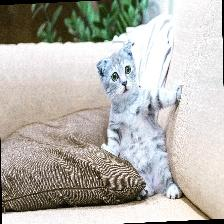kedo: (95, 40, 184, 198)
